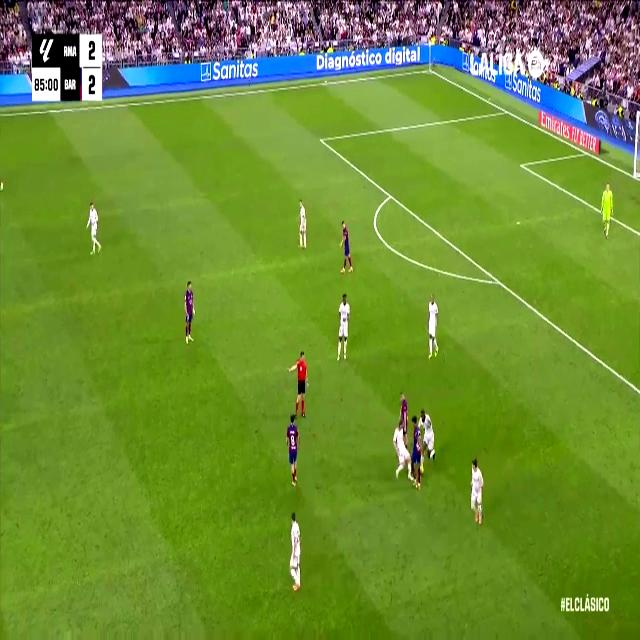bigarea_top_inner: (318, 132, 324, 146)
bigarea_top_outter: (502, 103, 509, 117)
bottom_arc_area_intersection: (493, 270, 503, 291)
corner: (425, 64, 435, 75)
midline_bottom_intersection: (631, 169, 639, 182)
smallarea_top_inner: (517, 156, 526, 172)
top_arc_area_intersection: (386, 186, 395, 203)
